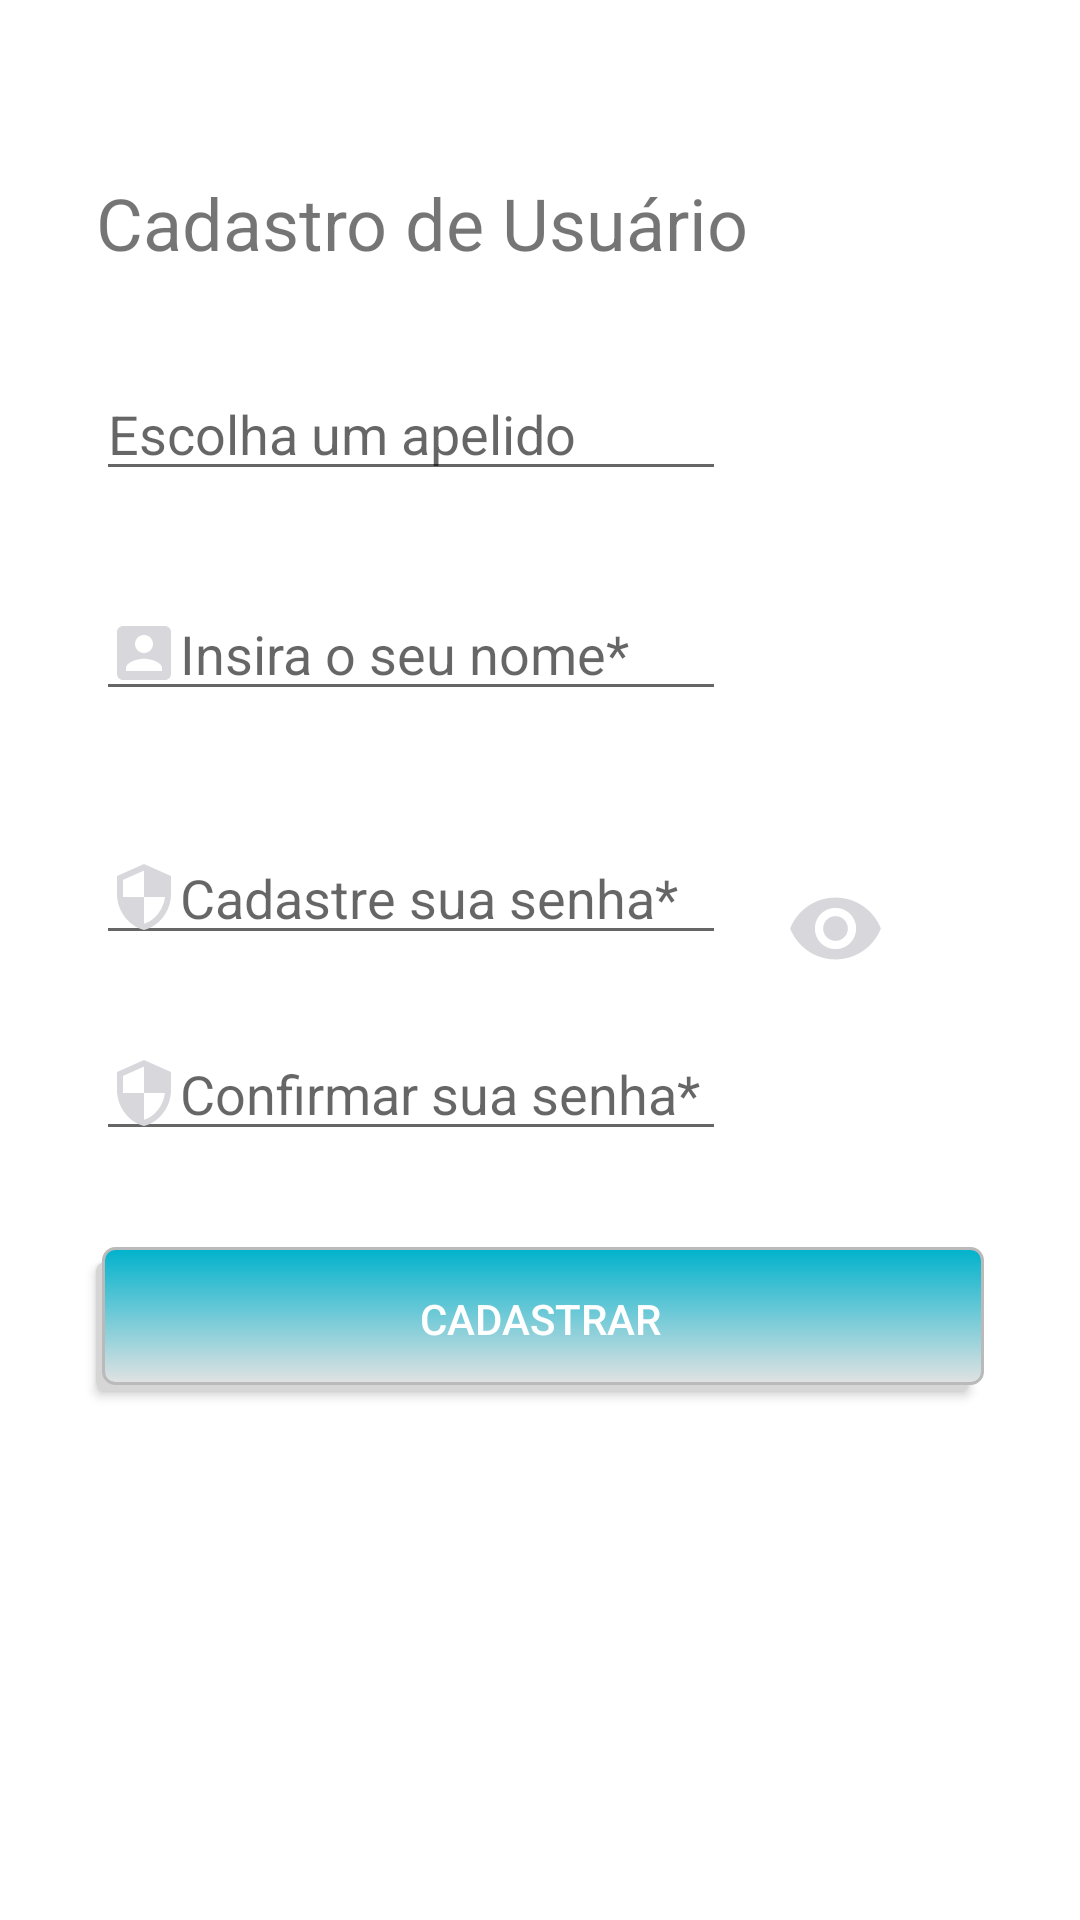

Screen size 1080px x 1920px. Icon name, then its box in pixels as (left=x1, top=y1, right=x2, bottom=y2):
visibility: (left=790, top=898, right=881, bottom=959)
